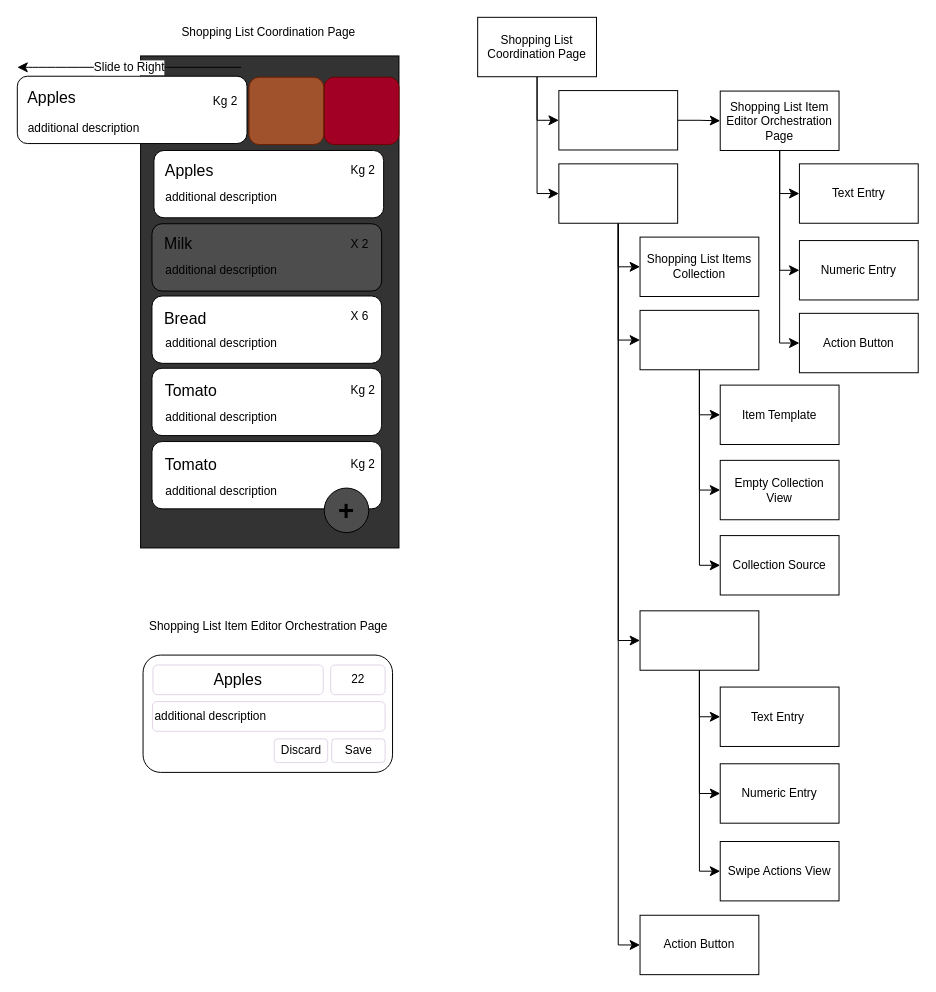
Image size: 936x992. Some labels were removed from this diagram. The shapes that lost their labels are listed below. From the top down, each one's centre as x and y in pixels, then its label:
[286,110]: Edit
[361,110]: Remove
[618,120]: Round Button
[618,193]: Shopping List Items Orchestration View
[699,339]: Collection Base
[699,640]: Shopping List Item Template
